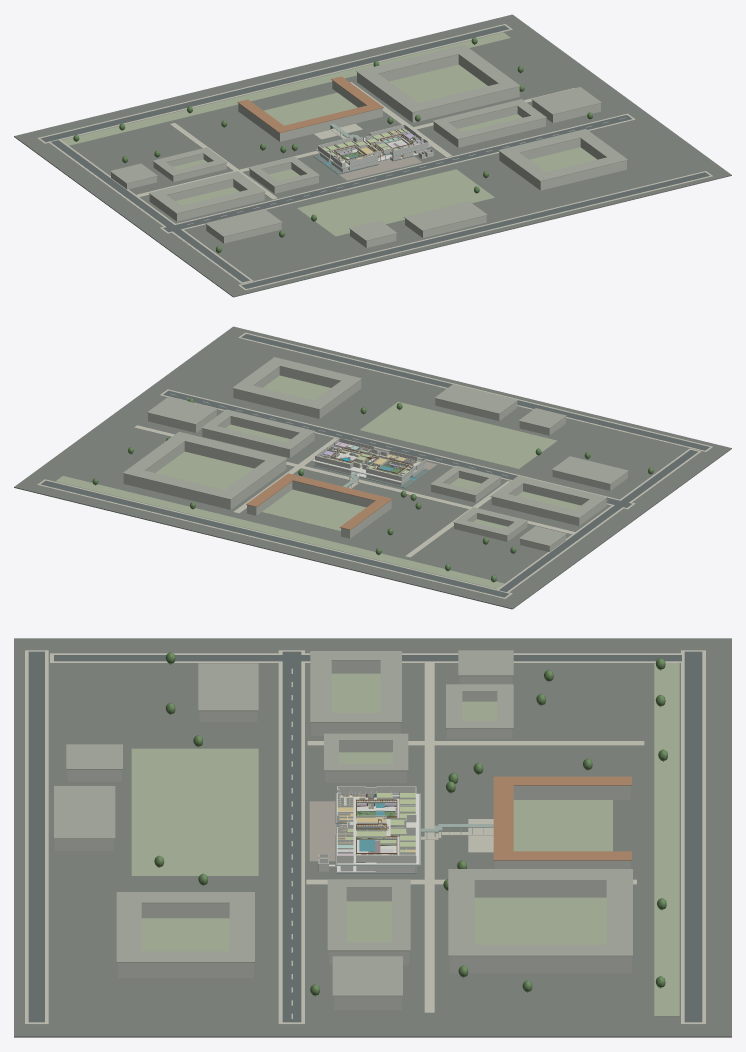
File: lc3-campus.glb
The picture shows the model from 3 angles, top to bottom: view 1: azimuth 30°, elevation 25°; view 2: azimuth 150°, elevation 25°; view 3: azimuth 270°, elevation 25°; orthographic projection. The views are drawn at different scales.
Visible parts, largest first — view 1: Surrounding_Buildings, Site_Ground, LC3_Floor_2.002, LC3_Floor_1.002; view 2: Surrounding_Buildings, Site_Ground, LC3_Floor_2.002, LC3_Floor_1.002; view 3: Surrounding_Buildings, Site_Ground, LC3_Floor_2.002, LC3_Floor_1.002, Covered_Link.
Boxes of the visible parts, bbox=[...] form: Surrounding_Buildings: bbox=[37, 24, 712, 290]; Site_Ground: bbox=[14, 14, 731, 297]; LC3_Floor_2.002: bbox=[315, 124, 431, 168]; LC3_Floor_1.002: bbox=[313, 136, 426, 174]; Surrounding_Buildings: bbox=[37, 332, 712, 598]; Site_Ground: bbox=[14, 326, 731, 609]; LC3_Floor_2.002: bbox=[311, 438, 426, 482]; LC3_Floor_1.002: bbox=[313, 450, 429, 488]; Surrounding_Buildings: bbox=[25, 650, 705, 1024]; Site_Ground: bbox=[14, 638, 731, 1037]; LC3_Floor_2.002: bbox=[335, 786, 420, 865]; LC3_Floor_1.002: bbox=[336, 798, 416, 873]; Covered_Link: bbox=[421, 824, 493, 839].
Size of the model in its own units: 315 by 7.18 by 240.
